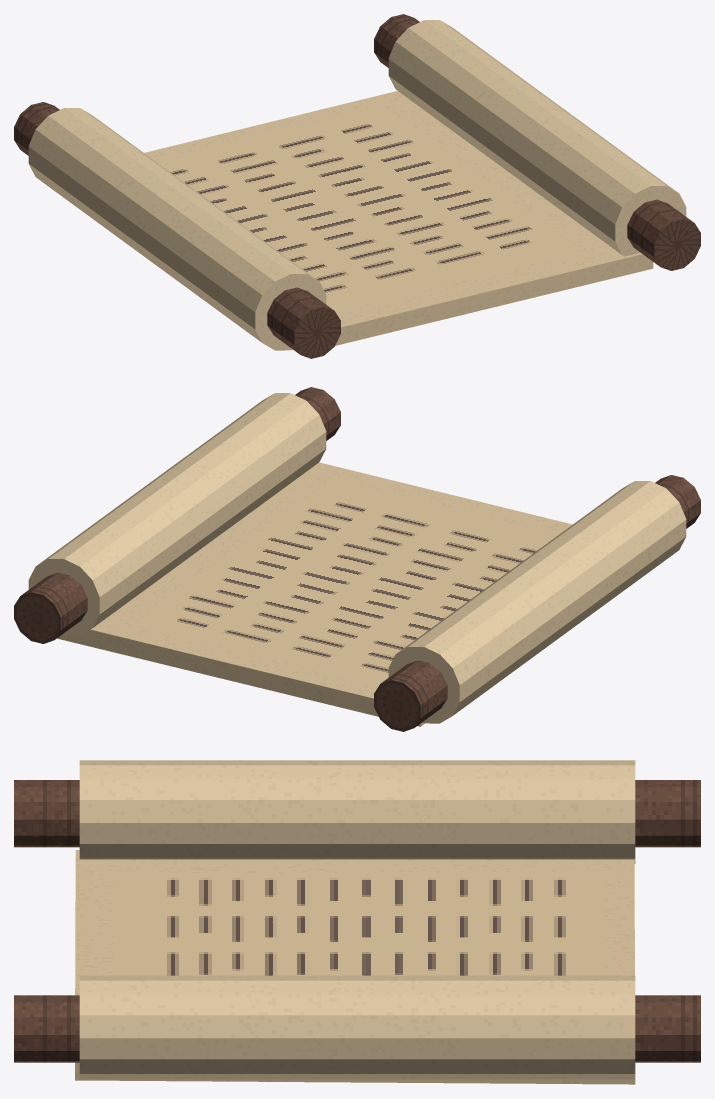
File: holybook_torah_scroll.glb
3 renders of one model, top to bottom at view 1: azimuth 30°, elevation 25°; view 2: azimuth 150°, elevation 25°; view 3: azimuth 270°, elevation 25°, orthographic. The views are drawn at different scales.
Parts seen in each view (by area): view 1: block_rolled parchment (×2), block_ink columns, block_laid out parchment scroll, block_wooden scroll rod (×2); view 2: block_rolled parchment (×2), block_ink columns, block_laid out parchment scroll, block_wooden scroll rod (×2); view 3: block_rolled parchment (×2), block_ink columns, block_wooden scroll rod (×2), block_laid out parchment scroll.
Boxes of the visible parts, x1,y1,x2,y2 form: block_rolled parchment (×2): (28, 20, 686, 350); block_ink columns: (155, 105, 581, 311); block_laid out parchment scroll: (144, 91, 653, 345); block_wooden scroll rod (×2): (14, 14, 700, 358); block_rolled parchment (×2): (28, 393, 686, 723); block_ink columns: (132, 479, 558, 685); block_laid out parchment scroll: (57, 462, 572, 726); block_wooden scroll rod (×2): (14, 387, 700, 731); block_rolled parchment (×2): (79, 760, 635, 1079); block_ink columns: (114, 873, 602, 975); block_wooden scroll rod (×2): (14, 780, 700, 1062); block_laid out parchment scroll: (75, 850, 635, 1084).
Bounding box in the file's own units: 0.4265 × 0.0768 × 0.48.
Materials: 1 (1 with a texture image).
